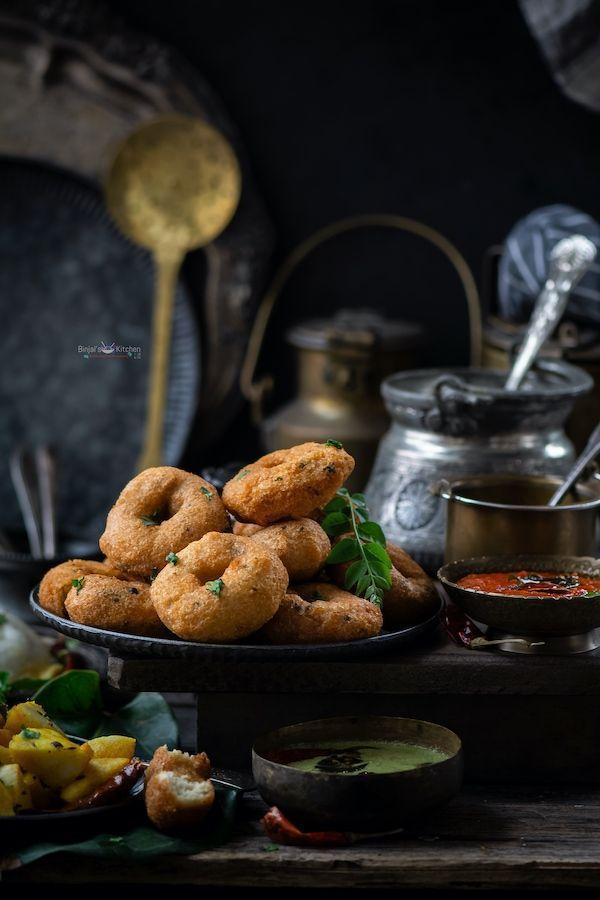mvada: (121, 501, 323, 617)
